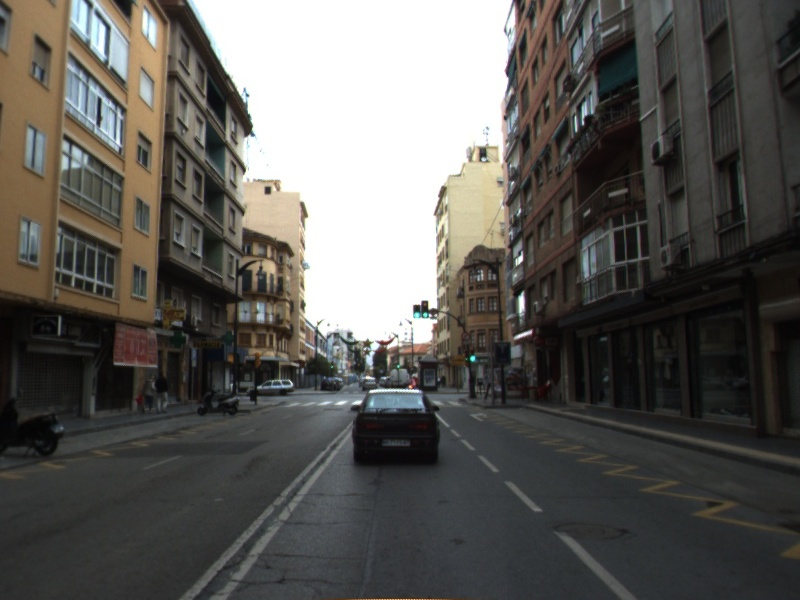RIGHT: (468, 410, 490, 423)
